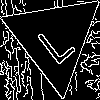L: (29, 13, 77, 67)
